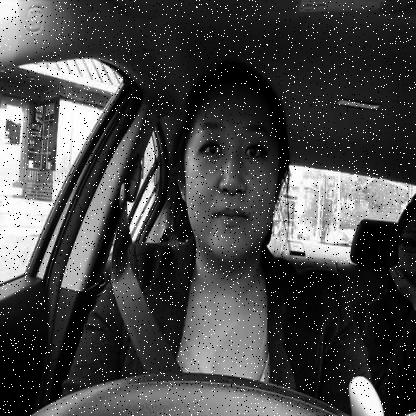seatbelt: (100, 49, 296, 403)
